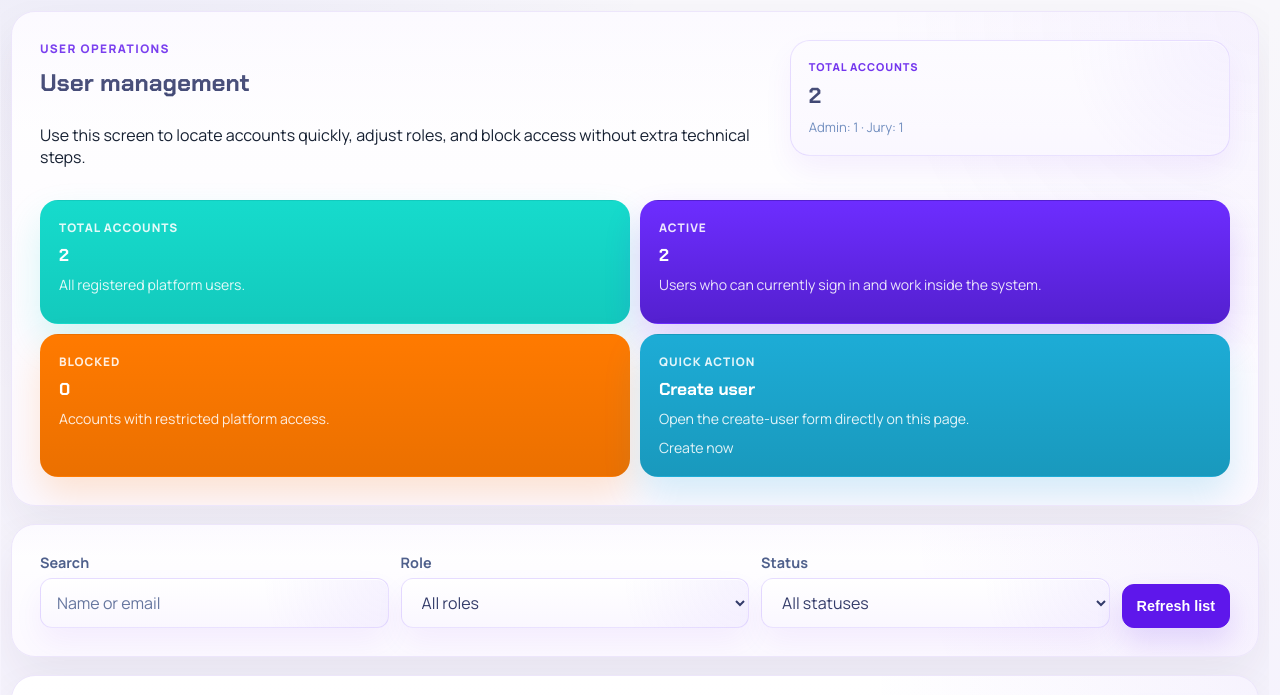
Test: AdminUsersPage › creates a new user without leaving the users page
Click the button "Create user" at (707, 362), box 640,334 -> 1230,478
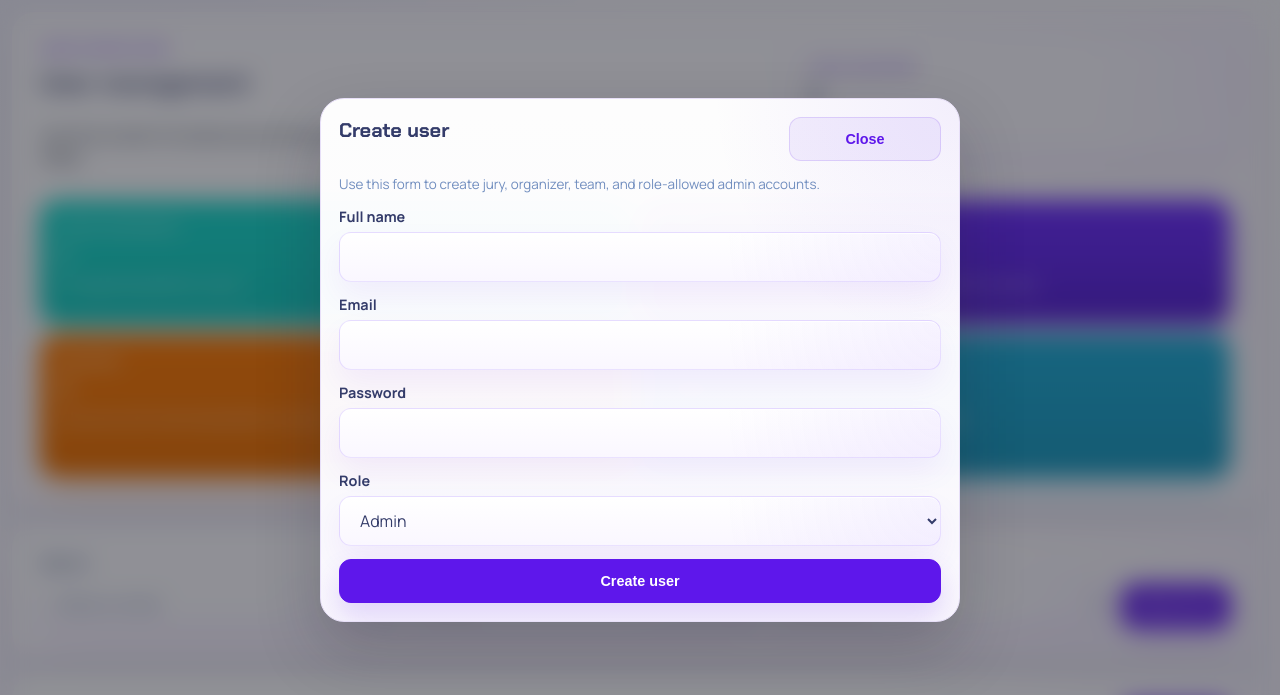
Type "Organizer User" into the field labelled "Full name" at (640, 257), box 339,232 -> 941,282
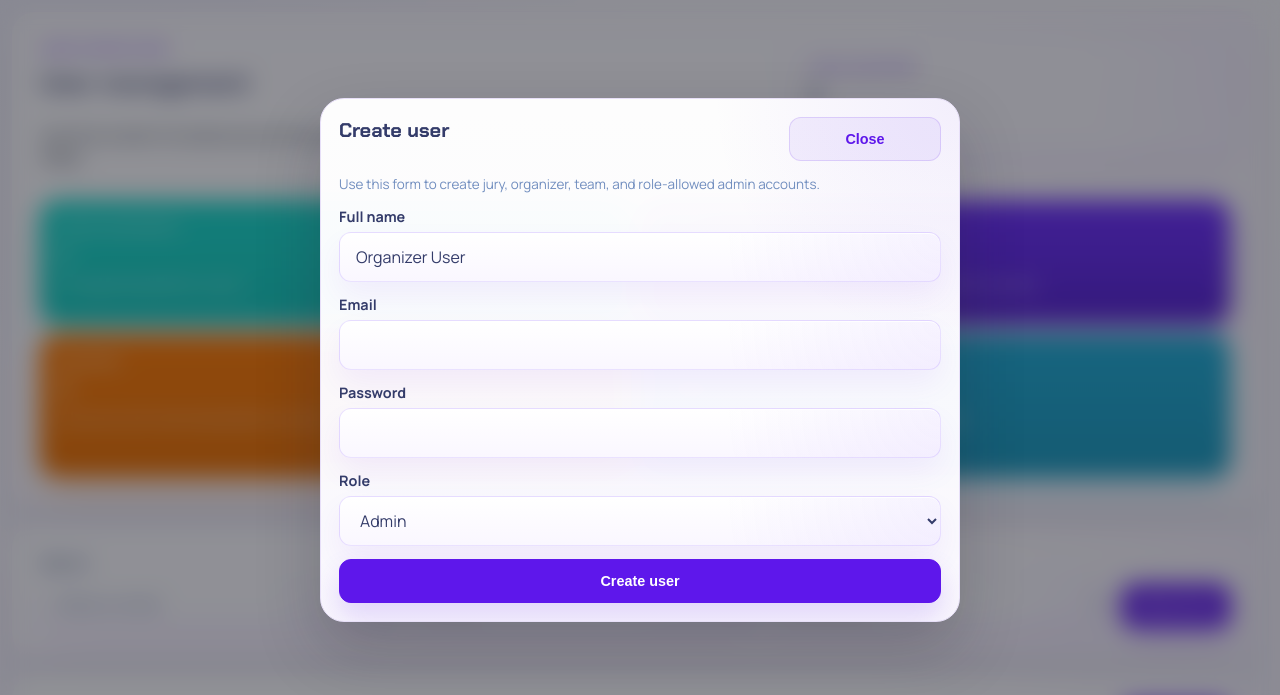
Type "organizer@example.com" into the field labelled "Email" at (640, 345), box 339,320 -> 941,370
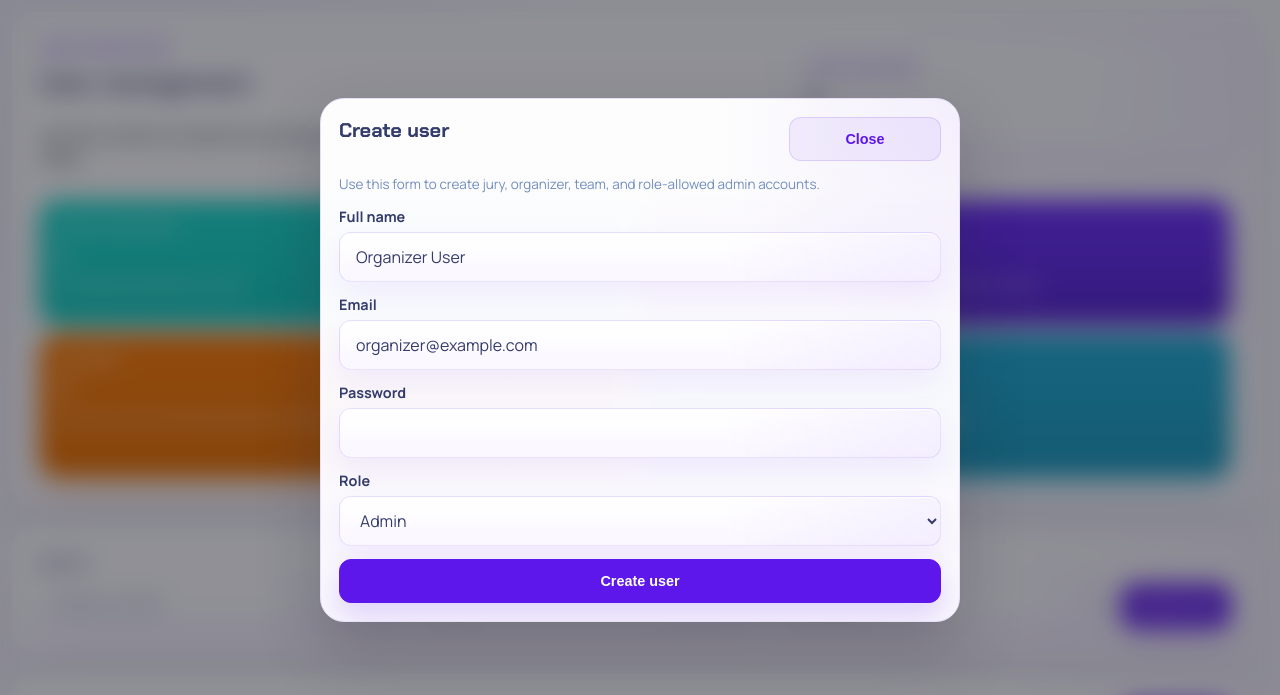
Type "secure-pass-123" into the password field labelled "Password" at (640, 433), box 339,408 -> 941,458
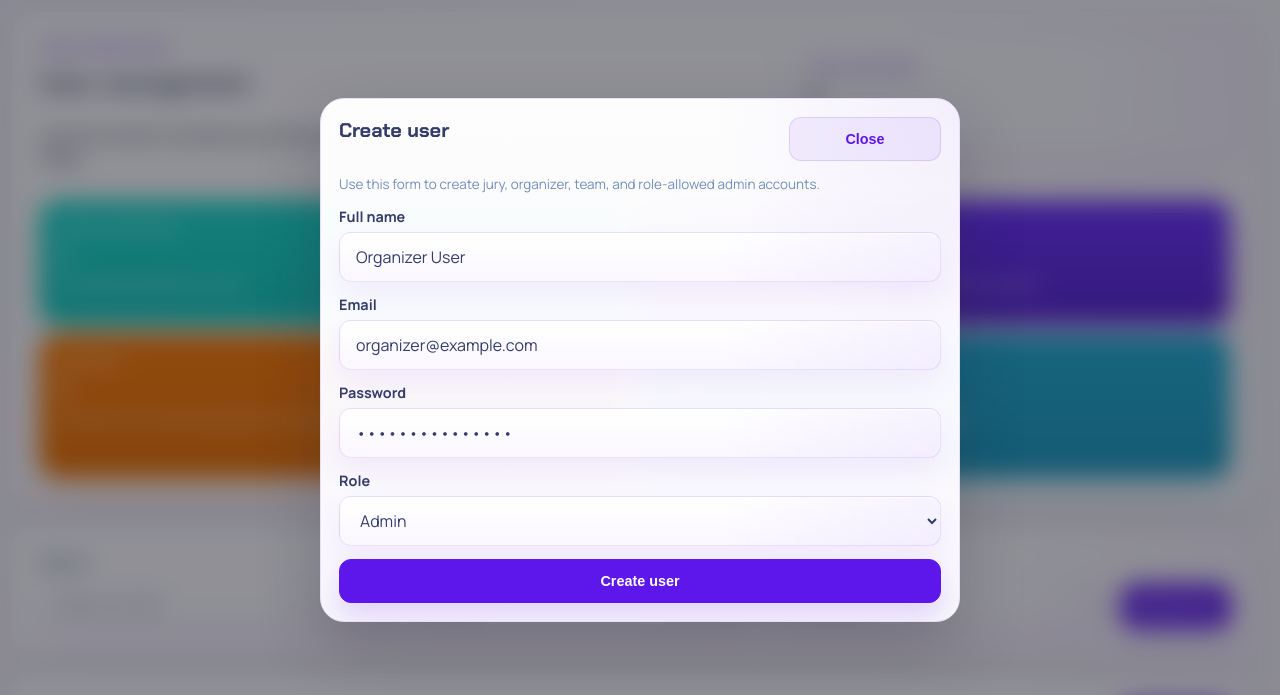
Select "Organizer" in the dropdown labelled "Role" at (640, 521), box 339,496 -> 941,546
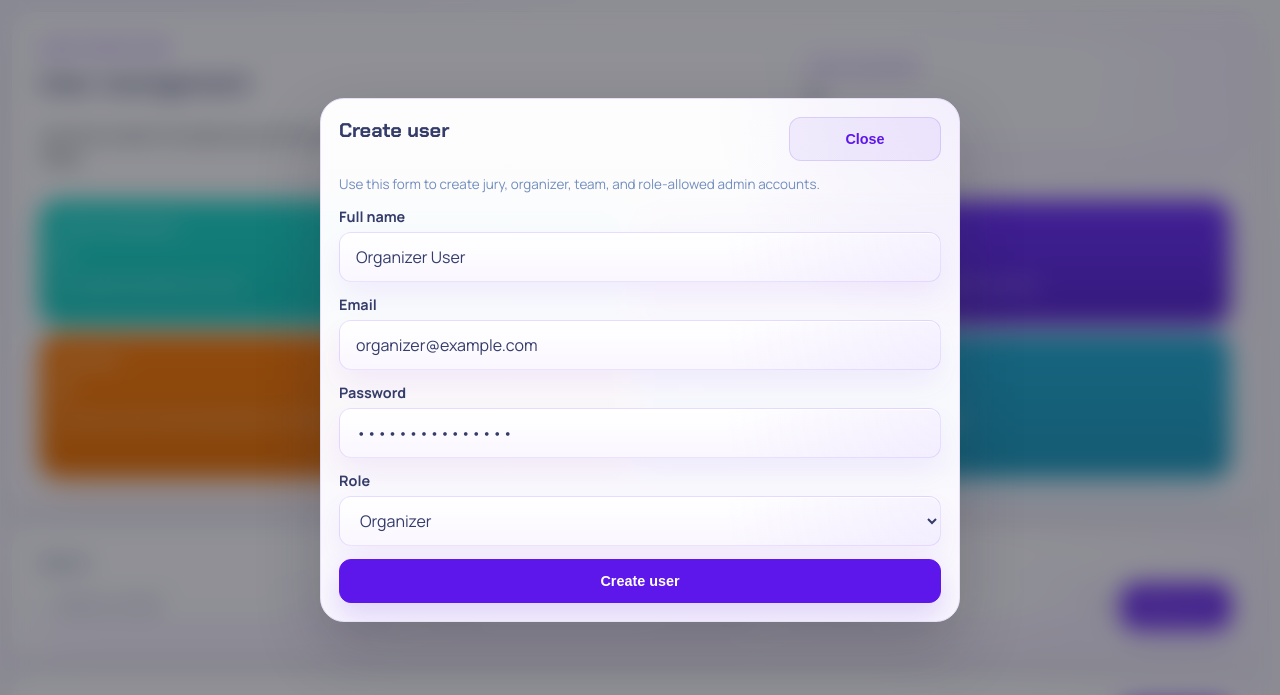
Submit the form "Create user", box 339,207 -> 941,603
(page scrolled)
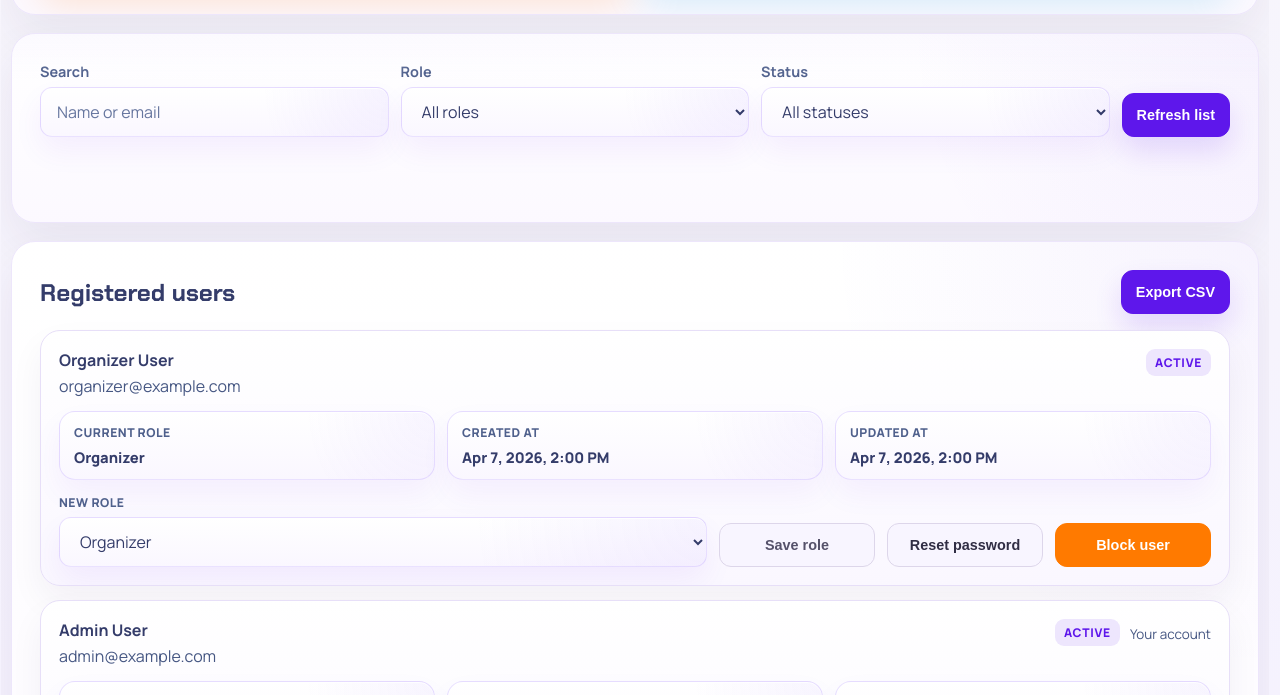
Expected: the text "Organizer User" is shown, 59,350 -> 174,372
